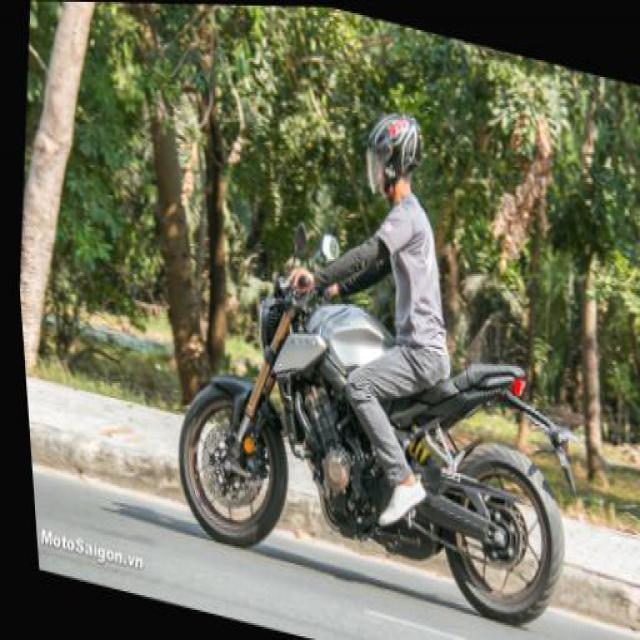CB650R: (150, 249, 585, 635)
